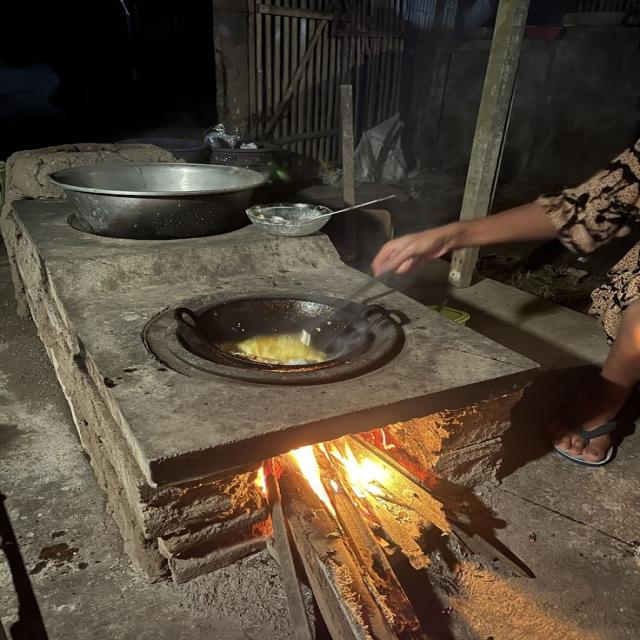fire: (290, 445, 336, 518), (333, 442, 389, 498)
